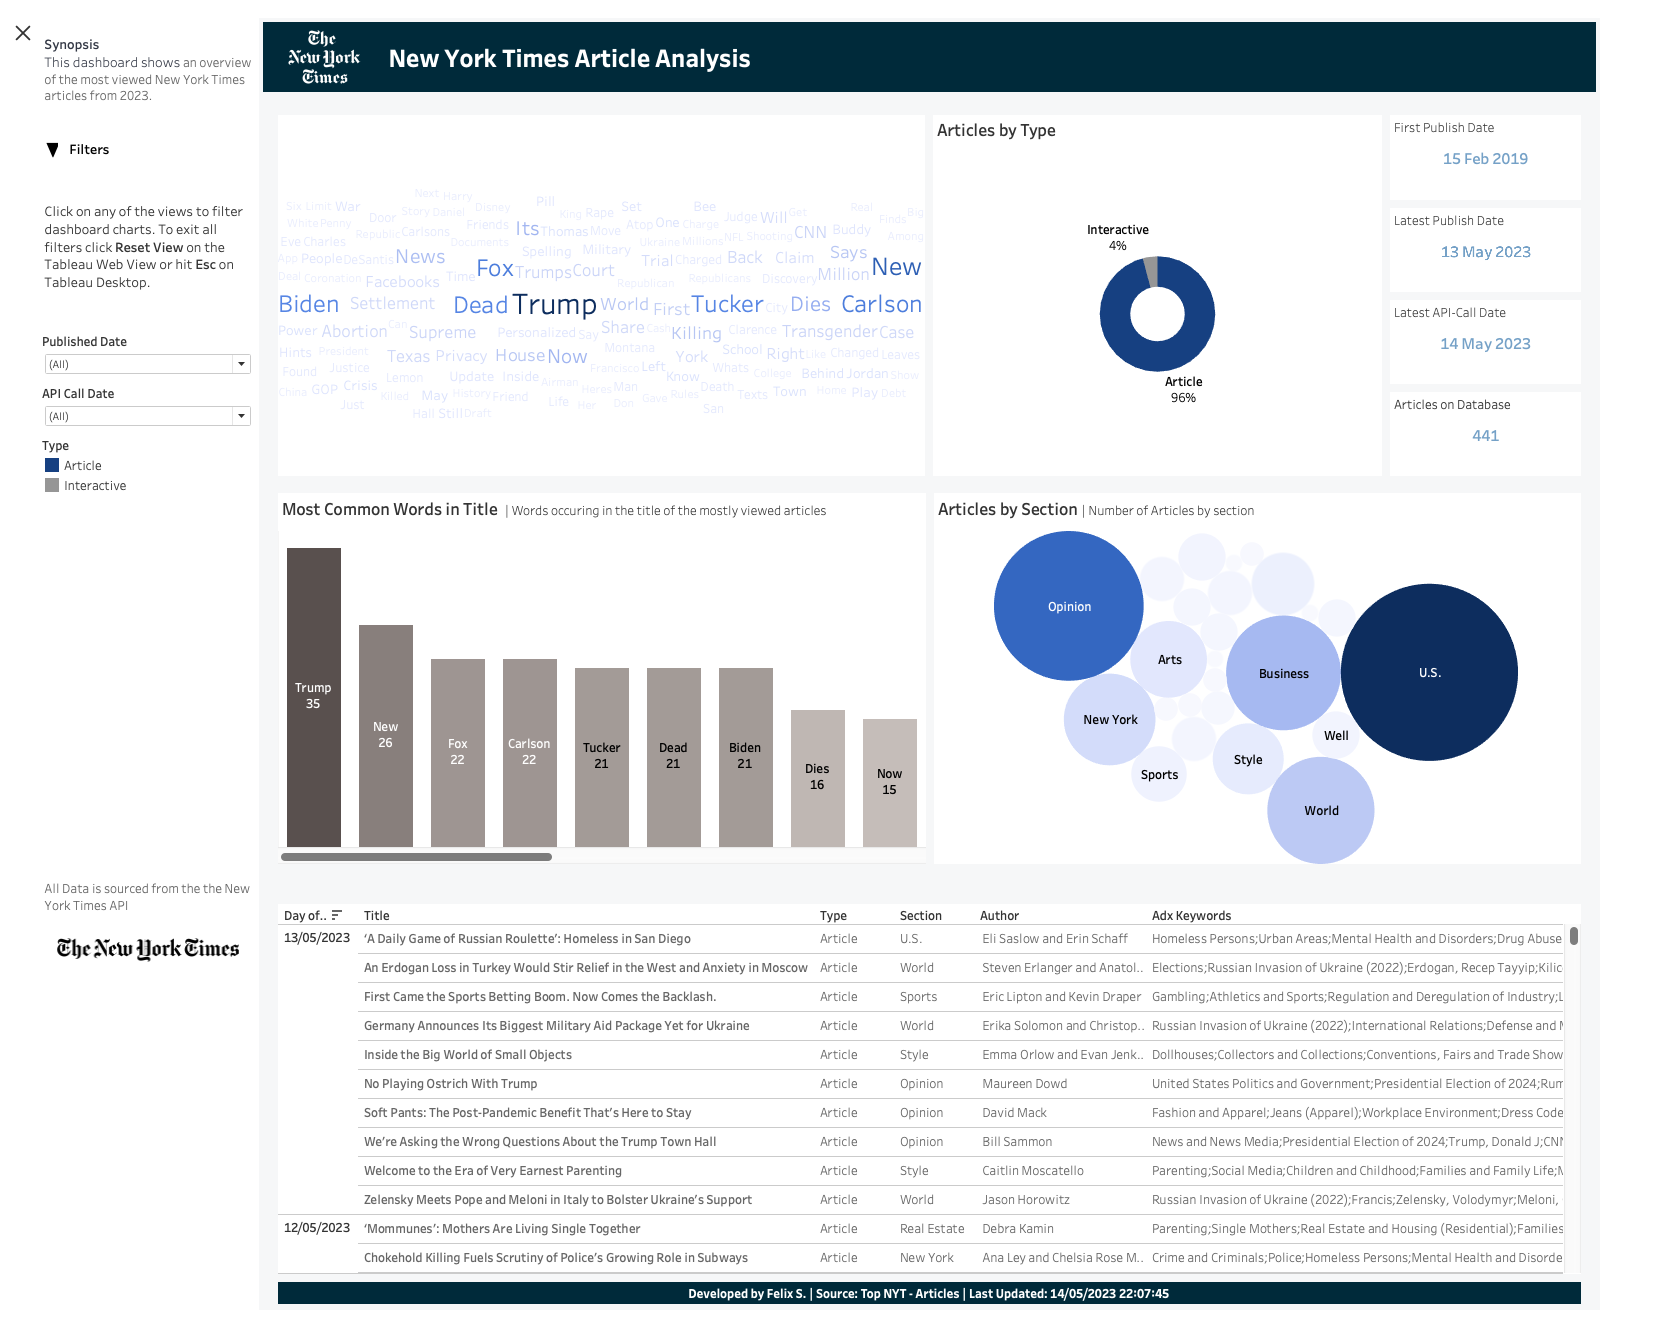

What the dashboard file says about the page in this screenshot:
{"tool":"tableau","page":{"name":"NYT Articles","canvas":[1600,1400],"ordinal":0},"visuals":[{"type":"dashboard-object","box":[4,4,30,30]},{"type":"text","box":[34,4,220,104]},{"type":"blank","box":[254,4,1,1392]},{"type":"image","param":"Image/Daco_6045781.png","box":[259,8,123,70]},{"type":"text","box":[382,8,1210,70]},{"type":"blank","box":[4,34,30,1093]},{"type":"worksheet","title":"WC - Title","mark":"Text","box":[270,97,655,369]},{"type":"worksheet","title":"donut article type","mark":"Pie","rows":["Calculation_40602791398281217","Calculation_40602791398281217"],"box":[925,97,457,369]},{"type":"worksheet","title":"Min Publish Date","mark":"Automatic","box":[1382,97,199,93]},{"type":"blank","box":[34,108,220,12]},{"type":"dashboard-object","box":[34,120,29,30]},{"type":"text","box":[63,120,191,30]},{"type":"text","box":[34,150,220,165]},{"type":"worksheet","title":"Max Publish Date","mark":"Automatic","box":[1382,190,199,92]},{"type":"worksheet","title":"Last API Call","mark":"Automatic","box":[1382,282,199,92]},{"type":"filter","title":"Sheet 1","param":"[federated.18can970u77z8c16wagob1s5yq92].[my:published_date:ok]","box":[34,315,220,52]},{"type":"filter","title":"Sheet 1","param":"[federated.18can970u77z8c16wagob1s5yq92].[md:timestamp_api_call_day:ok]","box":[34,367,220,52]},{"type":"worksheet","title":"Articles on DB","mark":"Automatic","box":[1382,374,199,92]},{"type":"legend","title":"donut article type","param":"[federated.18can970u77z8c16wagob1s5yq92].[none:type:nk]","box":[34,419,220,66]},{"type":"worksheet","title":"top words","mark":"Automatic","rows":["title_words"],"cols":["title_words"],"box":[270,501,656,397]},{"type":"worksheet","title":"Sheet 10 (2)","mark":"Circle","box":[926,501,655,397]},{"type":"blank","box":[34,702,220,134]},{"type":"text","box":[34,836,220,42]},{"type":"image","param":"Image/new-york-times-logo-png-transparent.png","box":[34,878,220,190]},{"type":"blank","box":[270,906,1311,24]},{"type":"worksheet","title":"Sheet 1","mark":"Automatic","rows":["published_date","title","type","section","Byline (copy)_741264376921673730","adx_keywords","abstract"],"box":[270,930,1311,404.2]},{"type":"blank","box":[34,1068,220,328]},{"type":"worksheet","title":"Footer","mark":"Automatic","box":[270,1334.2,1311,32]}]}

Visuals, with their boxes on the page's 1600x1400 design canvas (x1, y1, x2, y2). These are canvas units, not pixel positions in the 1662x1322 screenshot, which may show the page scaled, cropped or inside an application window:
dashboard-object: {"left": 4, "top": 4, "right": 34, "bottom": 34}
text: {"left": 34, "top": 4, "right": 254, "bottom": 108}
blank: {"left": 254, "top": 4, "right": 255, "bottom": 1396}
image: {"left": 259, "top": 8, "right": 382, "bottom": 78}
text: {"left": 382, "top": 8, "right": 1592, "bottom": 78}
blank: {"left": 4, "top": 34, "right": 34, "bottom": 1127}
"WC - Title" worksheet (Text marks): {"left": 270, "top": 97, "right": 925, "bottom": 466}
"donut article type" worksheet (Pie marks): {"left": 925, "top": 97, "right": 1382, "bottom": 466}
"Min Publish Date" worksheet: {"left": 1382, "top": 97, "right": 1581, "bottom": 190}
blank: {"left": 34, "top": 108, "right": 254, "bottom": 120}
dashboard-object: {"left": 34, "top": 120, "right": 63, "bottom": 150}
text: {"left": 63, "top": 120, "right": 254, "bottom": 150}
text: {"left": 34, "top": 150, "right": 254, "bottom": 315}
"Max Publish Date" worksheet: {"left": 1382, "top": 190, "right": 1581, "bottom": 282}
"Last API Call" worksheet: {"left": 1382, "top": 282, "right": 1581, "bottom": 374}
"Sheet 1" filter: {"left": 34, "top": 315, "right": 254, "bottom": 367}
"Sheet 1" filter: {"left": 34, "top": 367, "right": 254, "bottom": 419}
"Articles on DB" worksheet: {"left": 1382, "top": 374, "right": 1581, "bottom": 466}
"donut article type" legend: {"left": 34, "top": 419, "right": 254, "bottom": 485}
"top words" worksheet: {"left": 270, "top": 501, "right": 926, "bottom": 898}
"Sheet 10 (2)" worksheet (Circle marks): {"left": 926, "top": 501, "right": 1581, "bottom": 898}
blank: {"left": 34, "top": 702, "right": 254, "bottom": 836}
text: {"left": 34, "top": 836, "right": 254, "bottom": 878}
image: {"left": 34, "top": 878, "right": 254, "bottom": 1068}
blank: {"left": 270, "top": 906, "right": 1581, "bottom": 930}
"Sheet 1" worksheet: {"left": 270, "top": 930, "right": 1581, "bottom": 1334}
blank: {"left": 34, "top": 1068, "right": 254, "bottom": 1396}
"Footer" worksheet: {"left": 270, "top": 1334, "right": 1581, "bottom": 1366}
